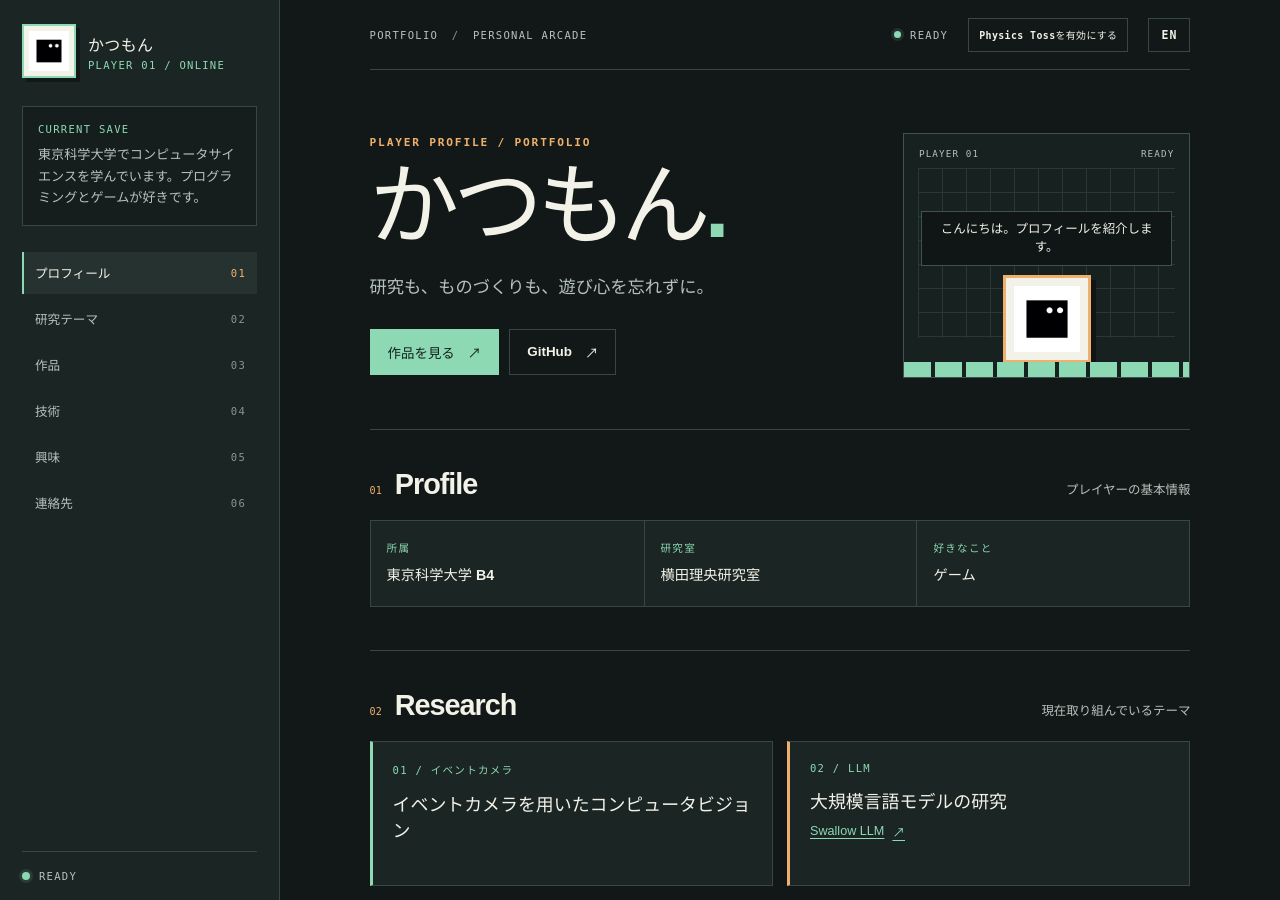
portfolio screen › keeps the navigation target and selected section in sync
Click the link "研究テーマ 02": (67, 320) [35, 313, 246, 328]
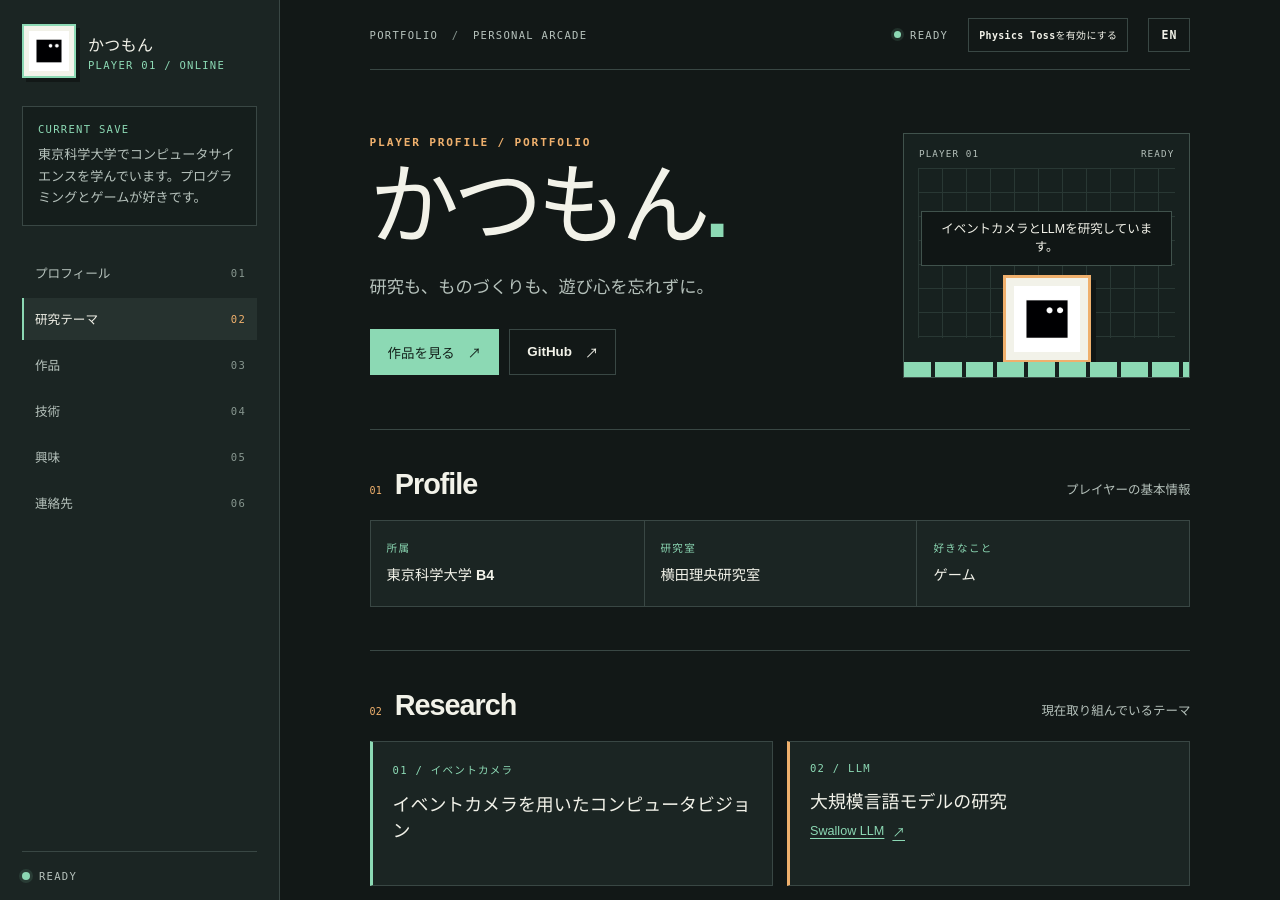
expect the message shows "イベントカメラ": met, box [941, 222, 1152, 254]
